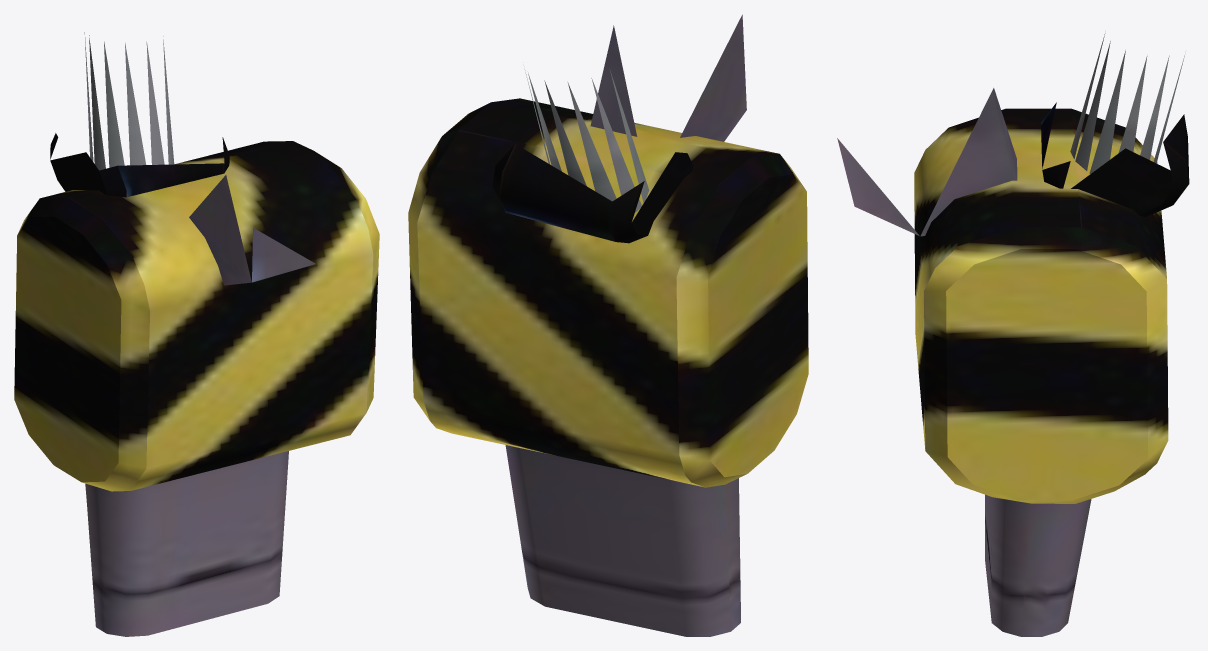
Rendered from j3ff_shin_l.glb.
The picture shows the model from 3 angles, left to right: view 1: azimuth 30°, elevation 25°; view 2: azimuth 150°, elevation 25°; view 3: azimuth 270°, elevation 25°; orthographic projection. The views are drawn at different scales.
Parts seen in each view (by area): view 1: j3ff; view 2: j3ff; view 3: j3ff.
Part boxes in pixels (box(x1,y1,x2,y2)): j3ff: box(14, 32, 379, 636); j3ff: box(408, 14, 808, 636); j3ff: box(837, 33, 1189, 636).
Size of the model in its own units: 9.3 by 17.58 by 10.11.
1 material, 1 textured.
